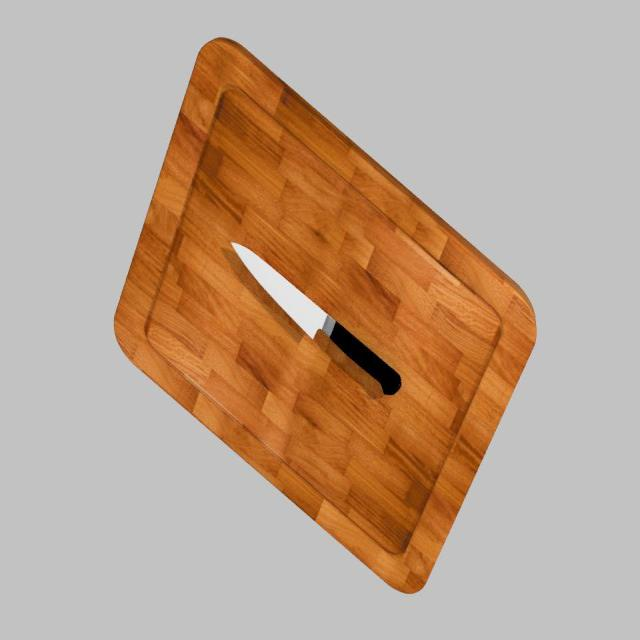knife: (329, 320, 402, 395)
